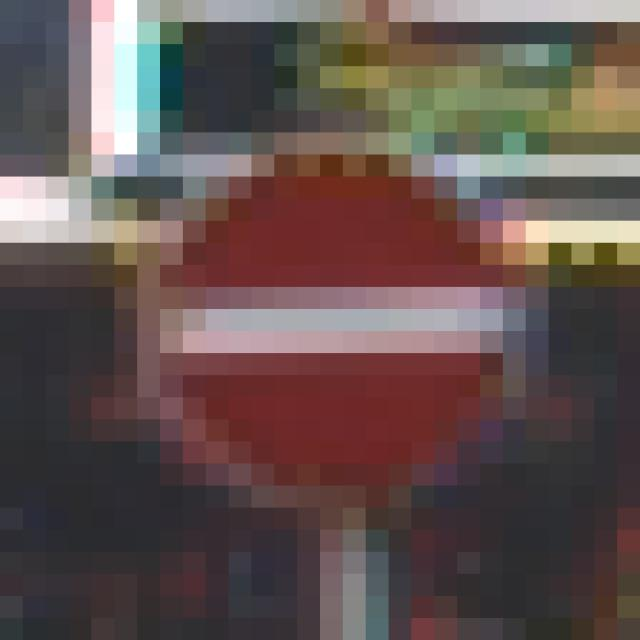No Entry: (115, 134, 504, 531)
